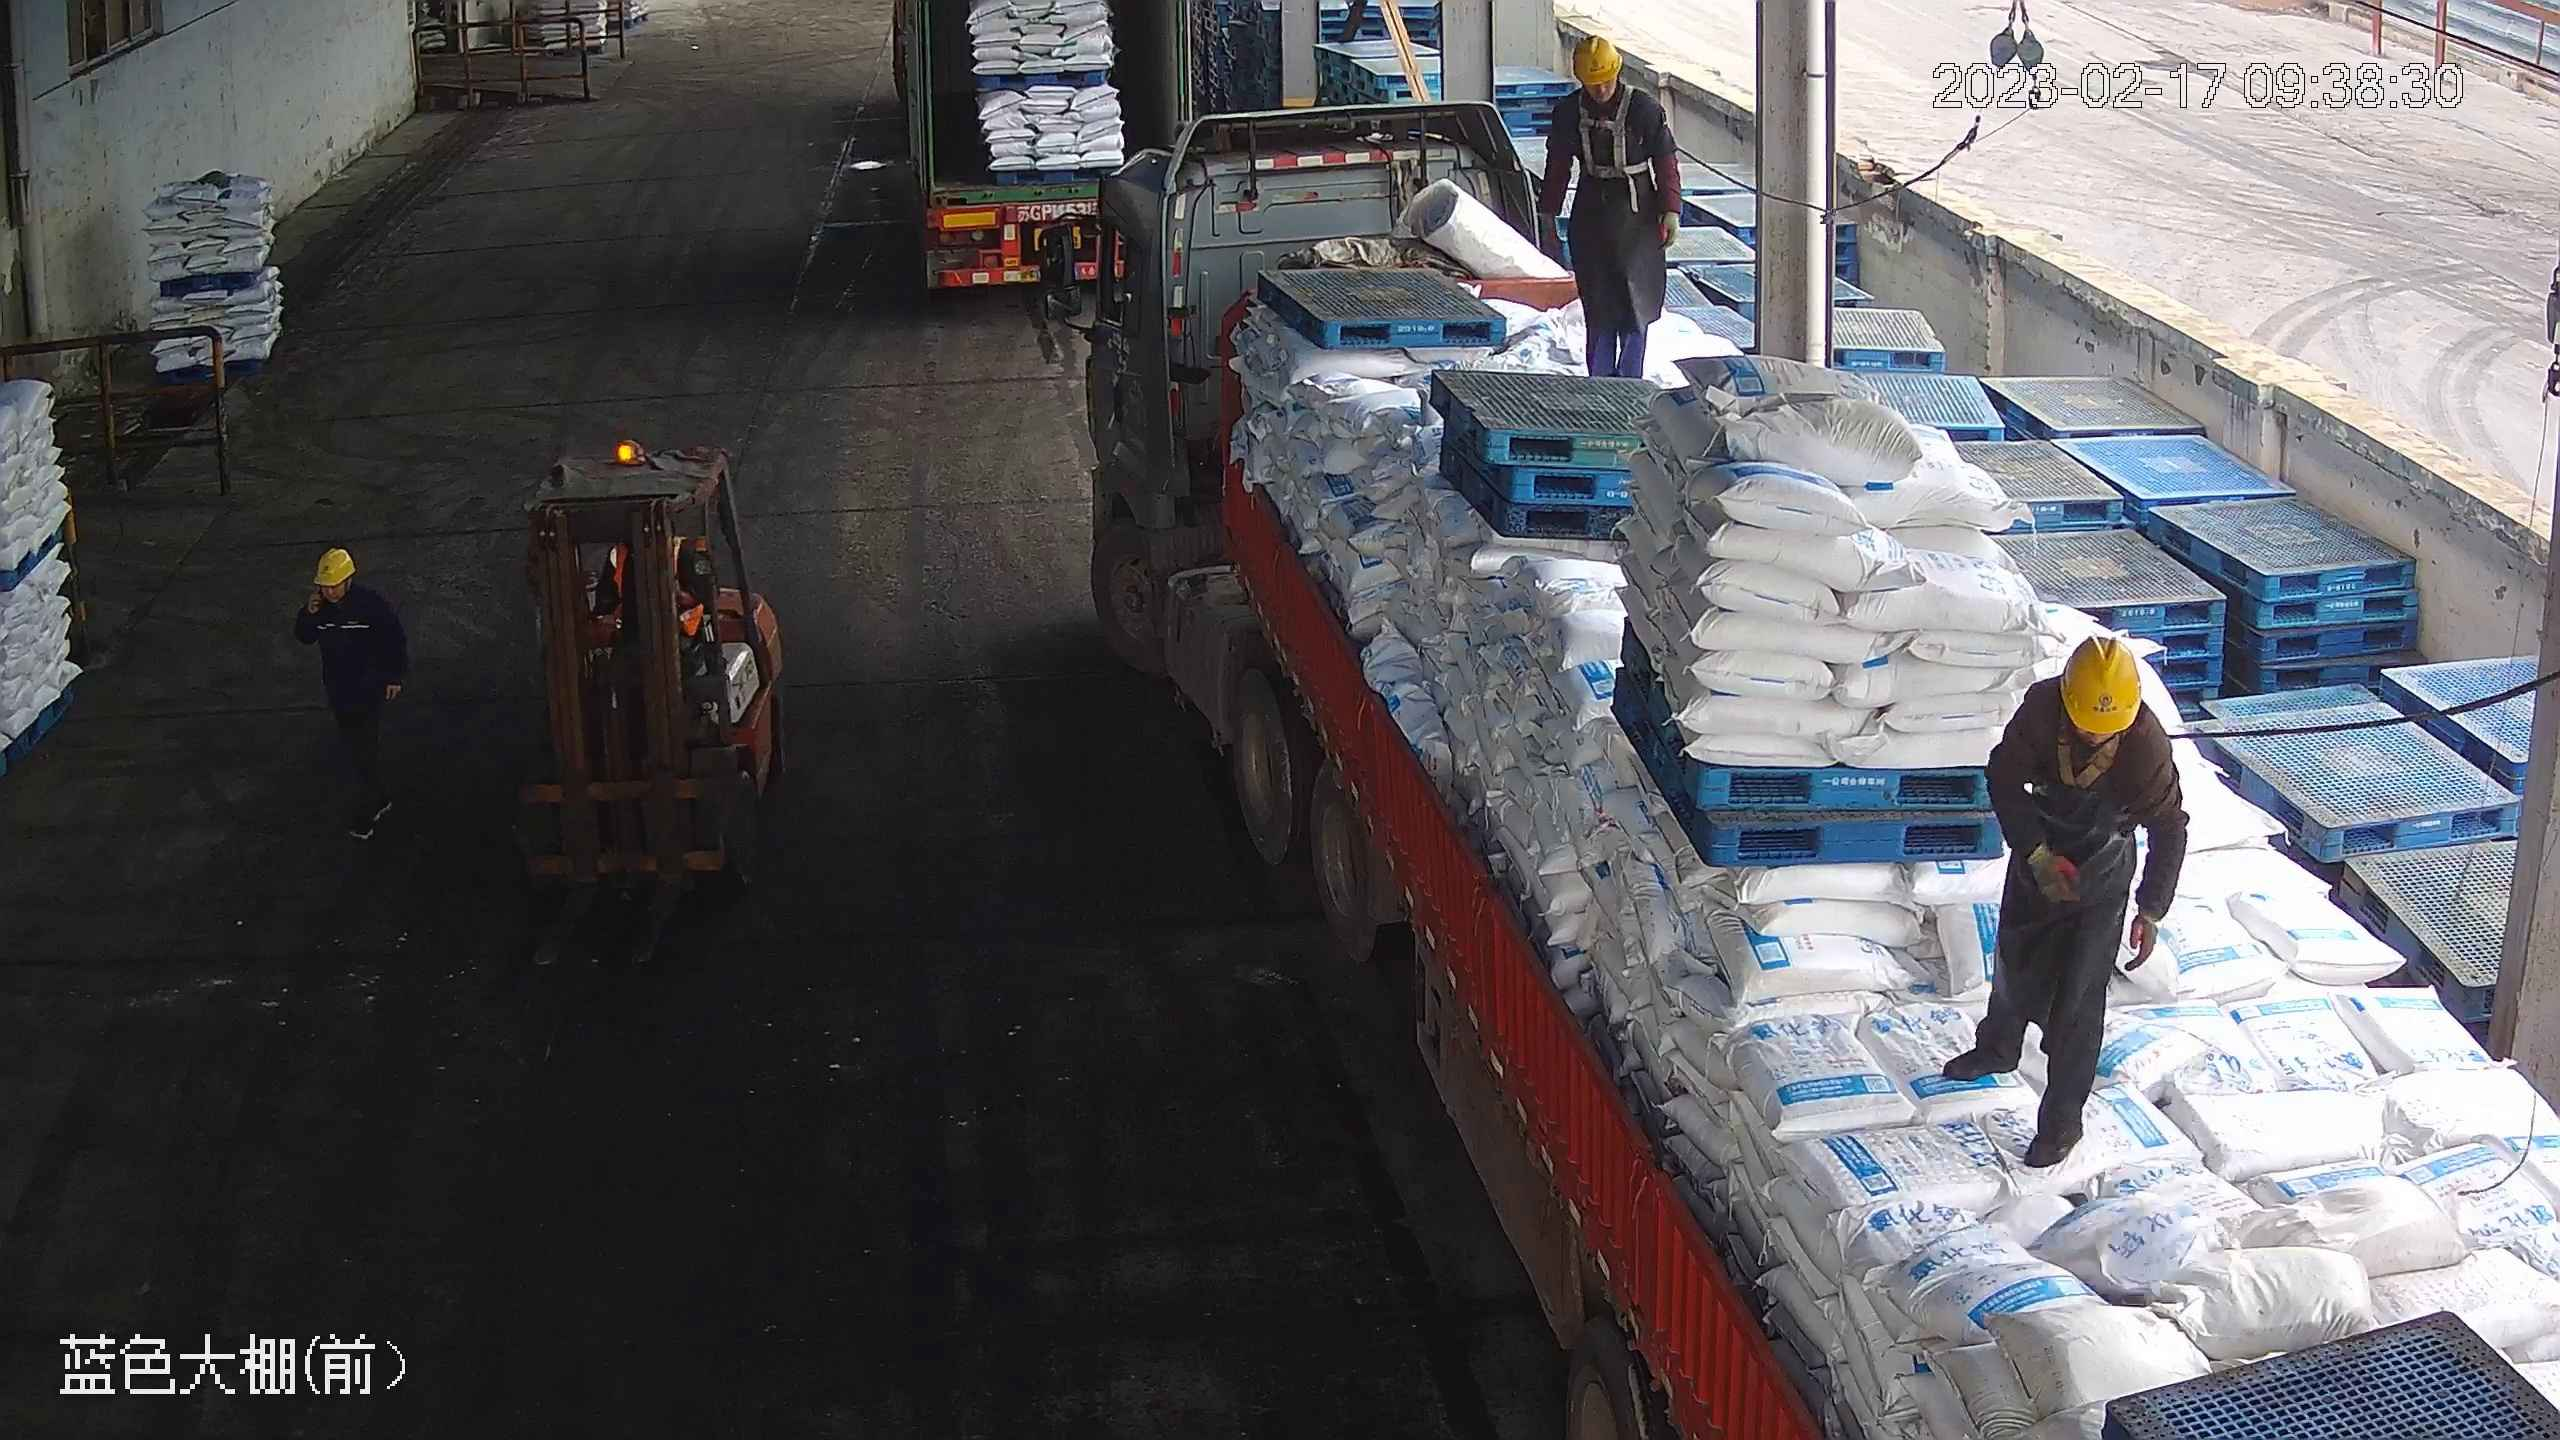belt: (1573, 81, 1651, 180), (2051, 698, 2133, 782)
head: (2002, 638, 2175, 790), (1553, 31, 1667, 137), (293, 546, 399, 634)
helmet: (2057, 636, 2144, 736), (1566, 30, 1623, 81), (311, 545, 356, 583)
people: (1938, 629, 2186, 1165), (1540, 25, 1689, 377), (292, 547, 411, 841)
truck: (1032, 99, 2555, 1438), (888, 2, 1185, 295)
